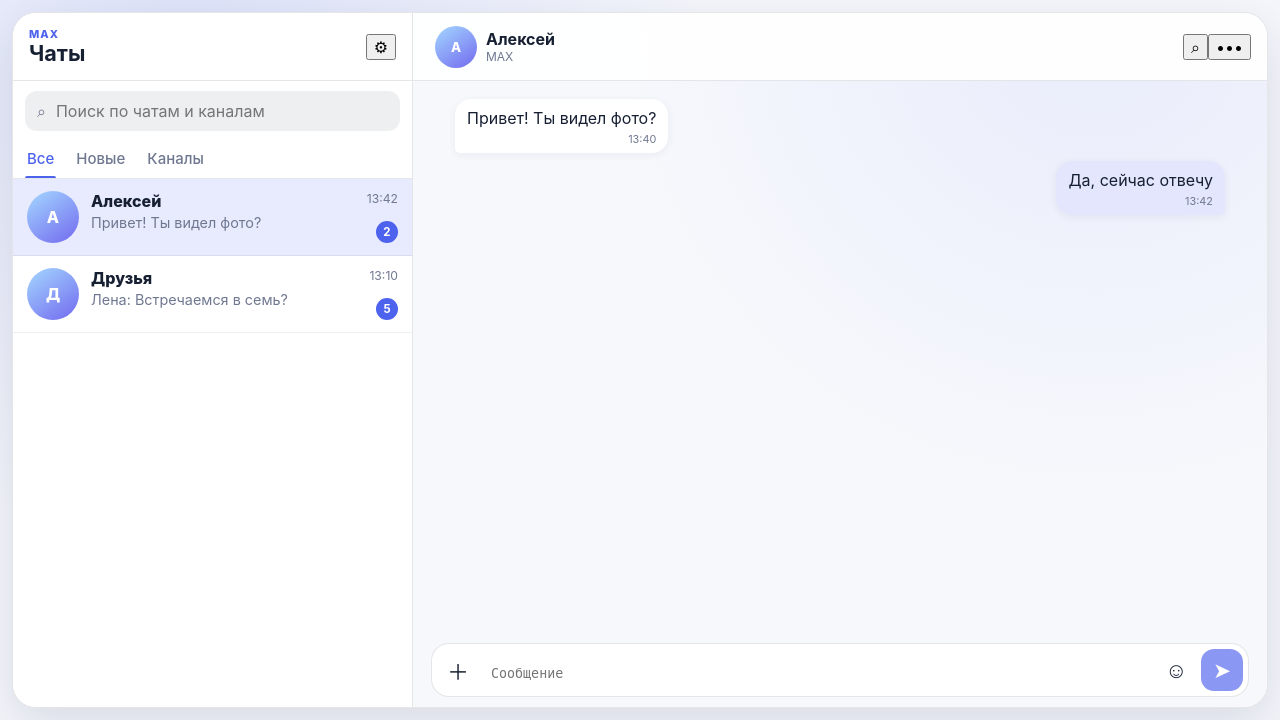
Test: narrow messenger gestures › stays on the last folder when swiping past the end
Press the mouse on the element with test id "messenger-surface" at point(640, 360), box [0, 0, 1279, 719]
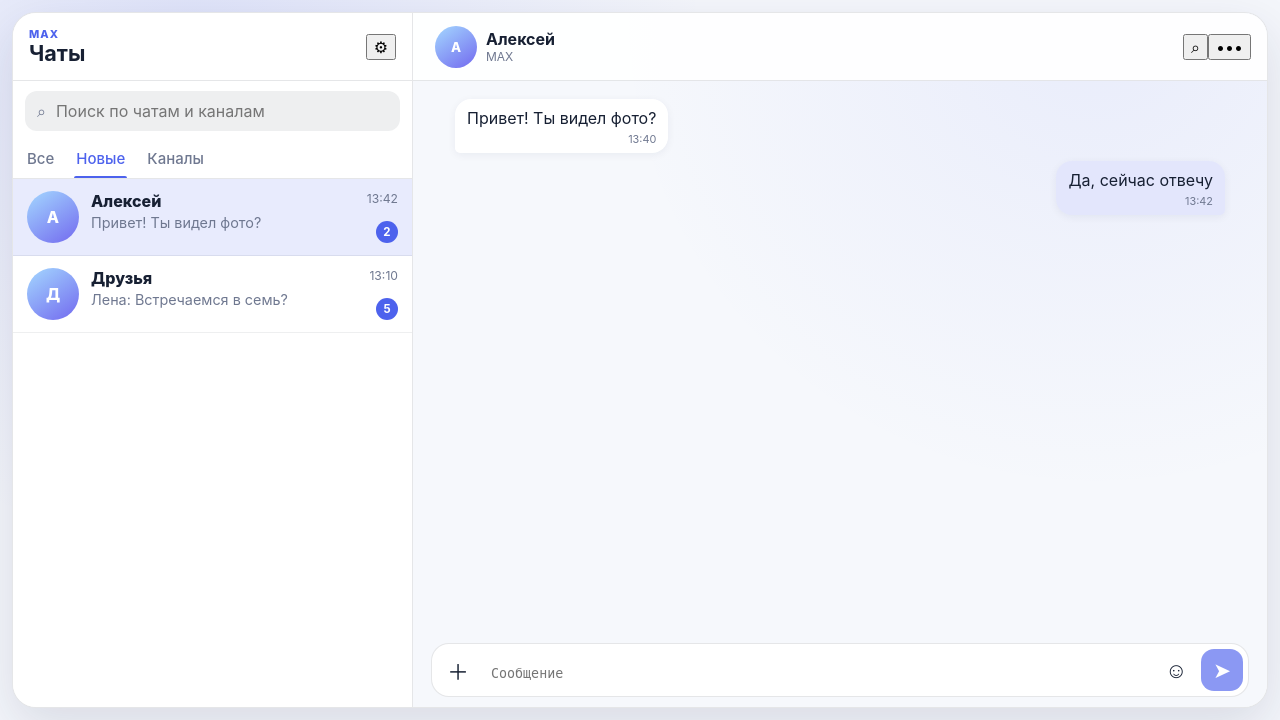
Press the mouse on the element with test id "messenger-surface" at point(640, 360), box [0, 0, 1279, 719]
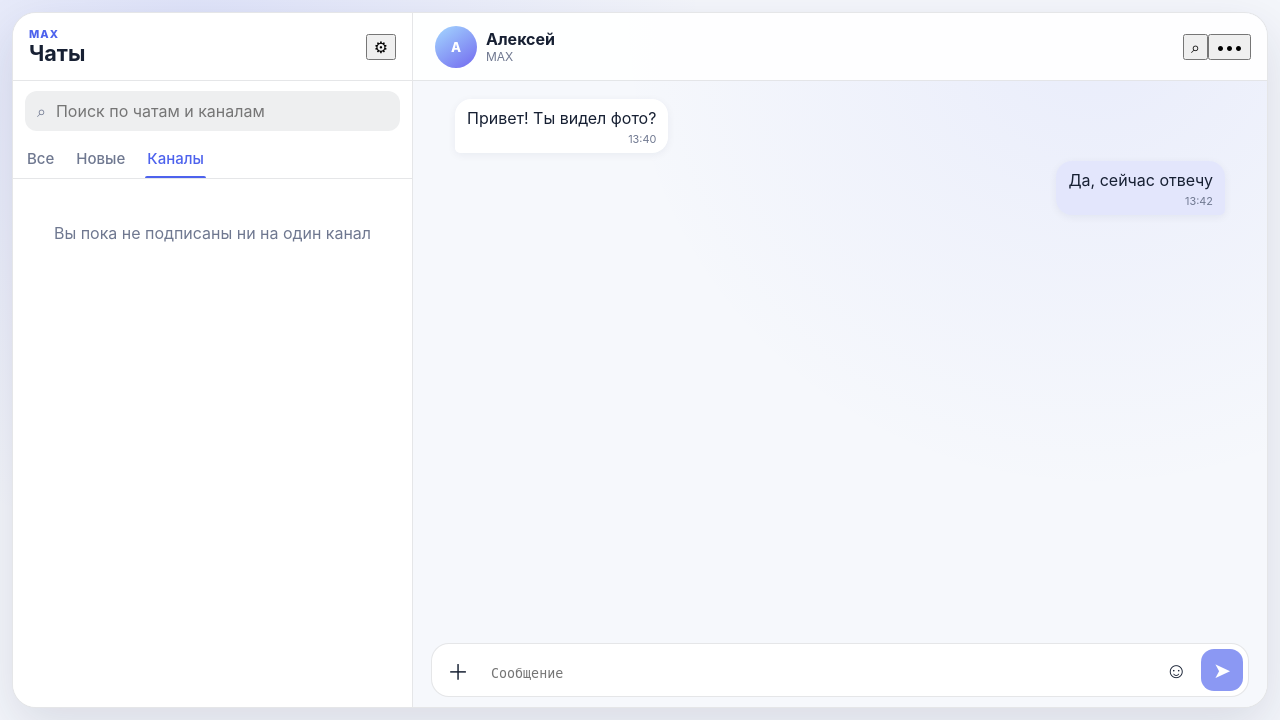
Press the mouse on the element with test id "messenger-surface" at point(640, 360), box [0, 0, 1279, 719]
Expected: the tab "Каналы" is selected, [145, 141, 206, 178]
